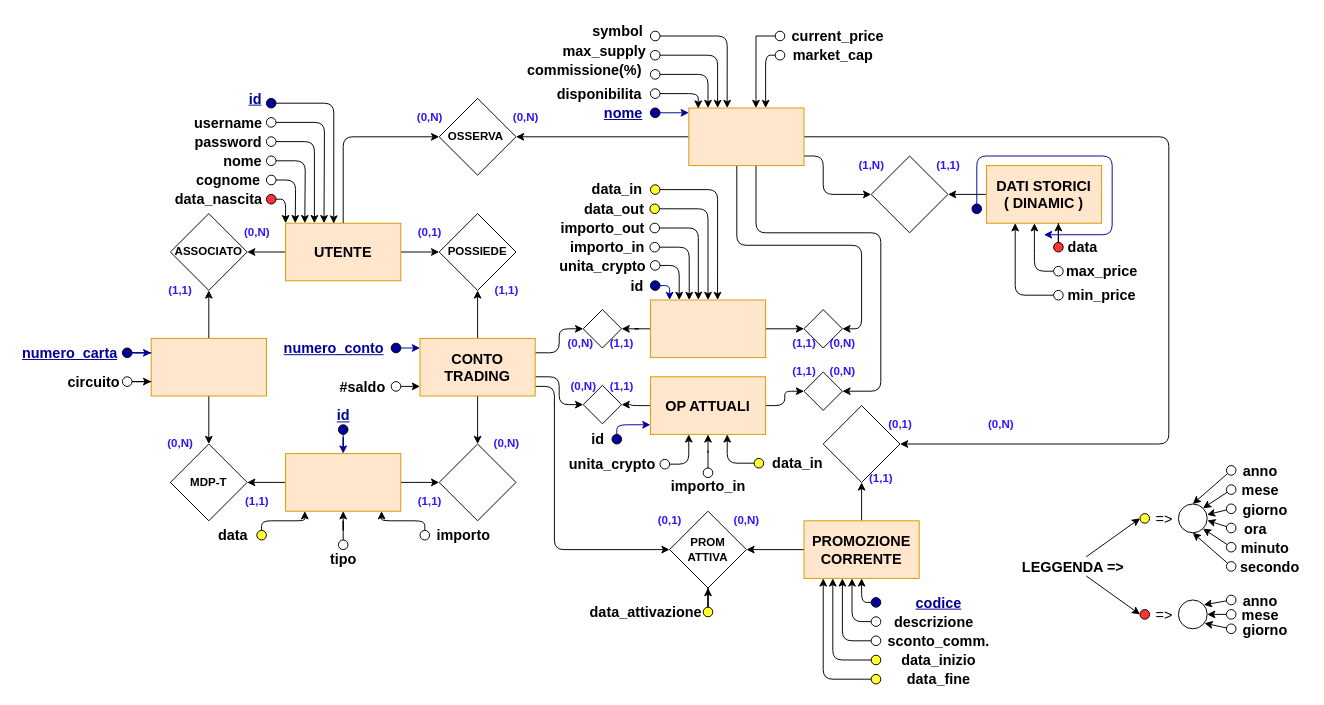
The diagram is 1324 pixels wide and 705 high, and some of its shapes have lost their labels. The box of each missing label's shape, as (x1, y1, x2, y2) in pixels:
CRYPTO: (688, 107, 804, 166)
ISTANZA DI: (870, 155, 948, 233)
METODO DI PAGAMENTO: (150, 337, 266, 396)
OP PASSATE: (649, 299, 766, 358)
T-CT: (438, 443, 516, 521)
TRANSAZIONE: (285, 453, 401, 511)
